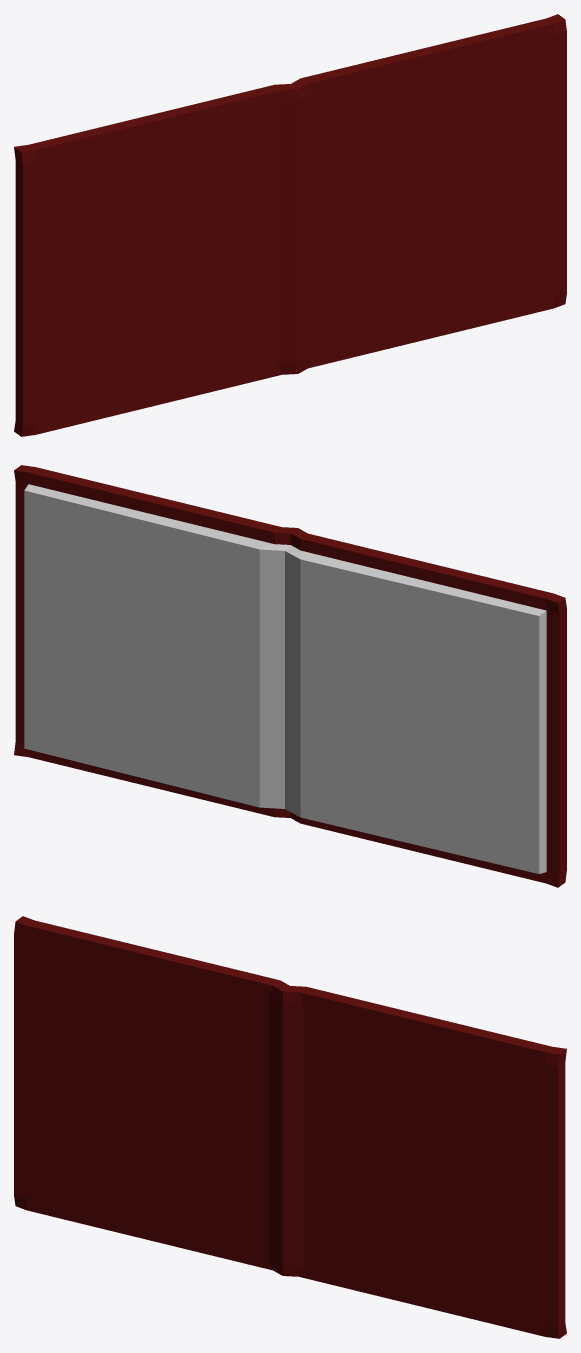
The model's file is MapBook.FBX.
3 views of the same model, one above another, from view 1: azimuth 30°, elevation 25°; view 2: azimuth 150°, elevation 25°; view 3: azimuth 330°, elevation 25° (orthographic).
Visible parts, largest first — view 1: Box001; view 2: Box001; view 3: Box001.
Part boxes in pixels (<box>): Box001: <box>14,14,566,436</box>; Box001: <box>14,465,566,887</box>; Box001: <box>14,916,566,1338</box>.
Size of the model in its own units: 78.74 by 39.37 by 4.51.
